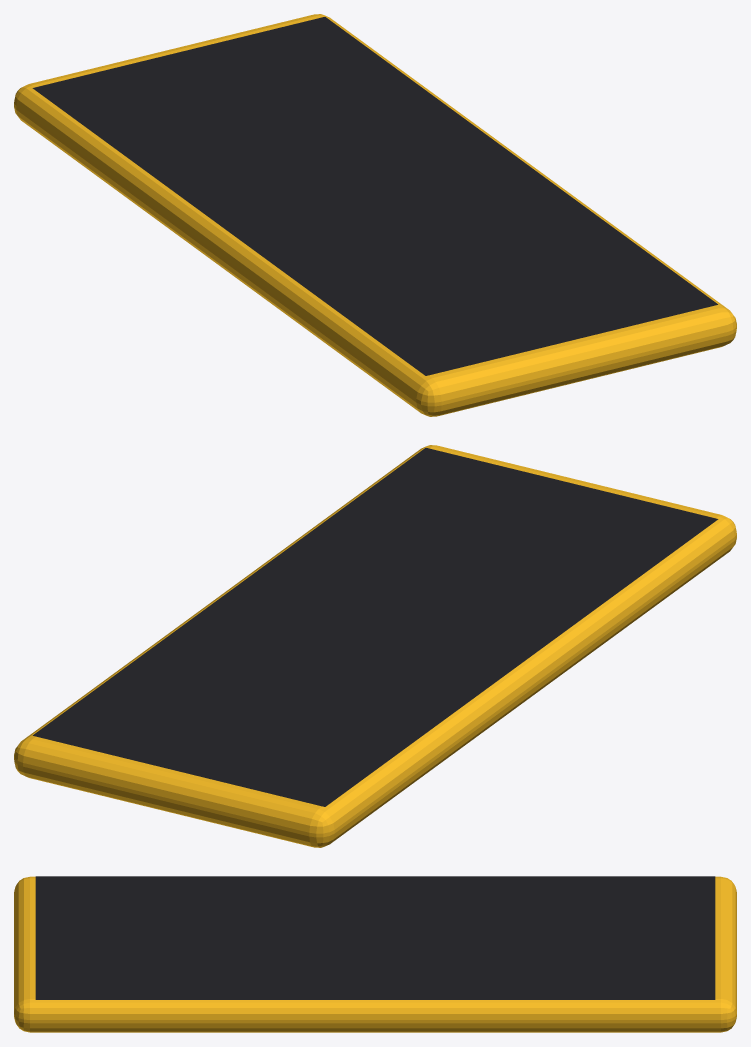
The model's file is Phone_212.glb.
3 views of the same model, one above another, from view 1: azimuth 30°, elevation 25°; view 2: azimuth 150°, elevation 25°; view 3: azimuth 270°, elevation 25° (orthographic). The views are drawn at different scales.
Visible parts, largest first — view 1: Phone_Screen, Phone_Body; view 2: Phone_Screen, Phone_Body; view 3: Phone_Screen, Phone_Body.
Part boxes in pixels (left/top/right/bottom): Phone_Screen: left=32, top=17, right=717, bottom=375; Phone_Body: left=14, top=14, right=736, bottom=416; Phone_Screen: left=33, top=448, right=718, bottom=806; Phone_Body: left=14, top=445, right=736, bottom=847; Phone_Screen: left=35, top=876, right=715, bottom=999; Phone_Body: left=14, top=876, right=736, bottom=1032.
Bounding box in the file's own units: 0.0724 × 0.0082 × 0.1649.
